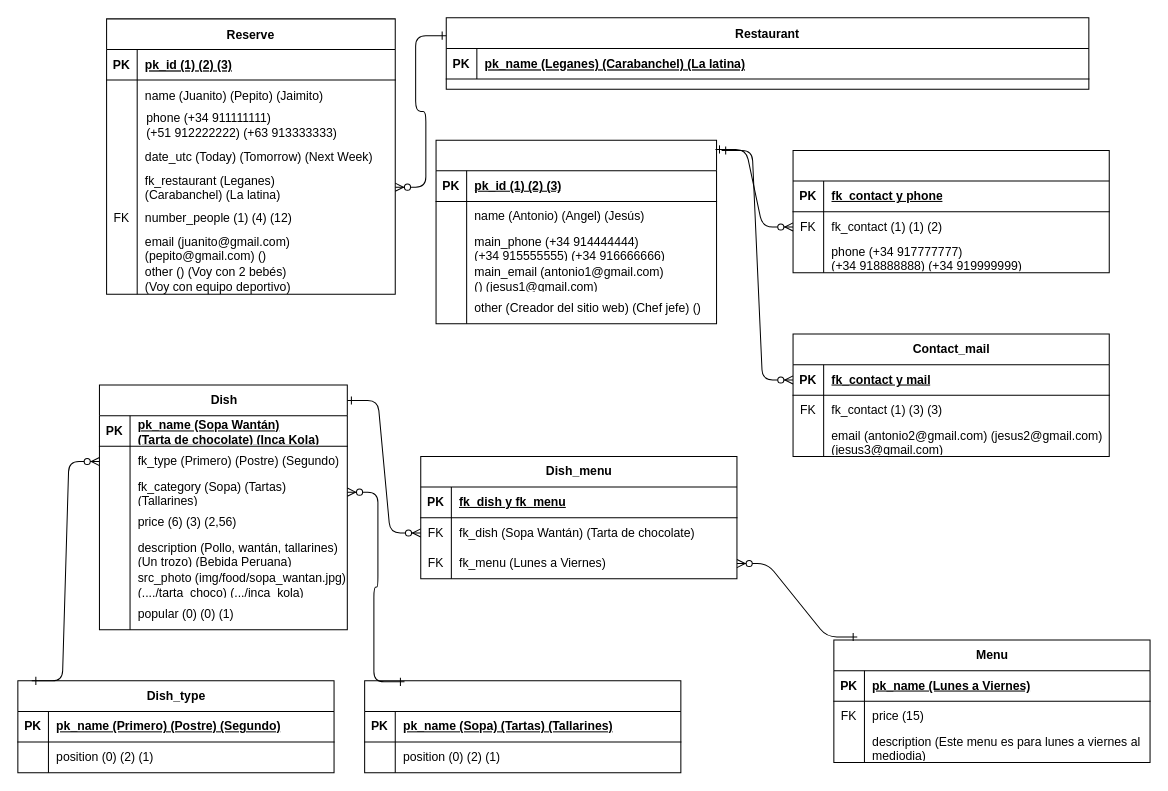
Some shapes in this 1168 by 791 pixel diagram are drawn without their labels. The box of each missing label's shape, as (x1, y1, x2, y2) in pixels:
Contact: (435, 139, 717, 324)
Contact_phone: (792, 149, 1109, 273)
Dish_category: (364, 680, 681, 773)
